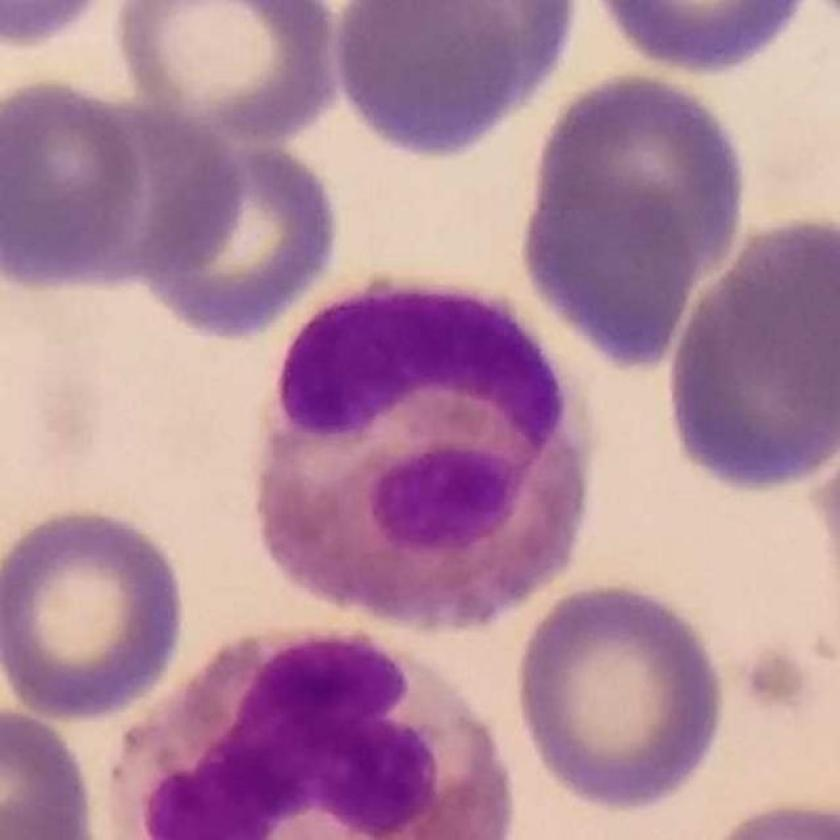eosinophil: (257, 285, 594, 630), (90, 628, 510, 840)
